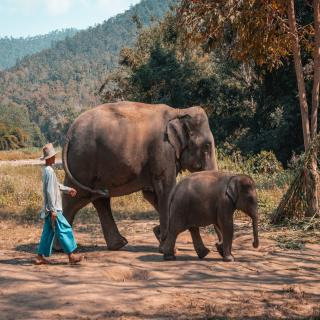Elephant: (58, 99, 226, 254), (160, 168, 264, 262)
